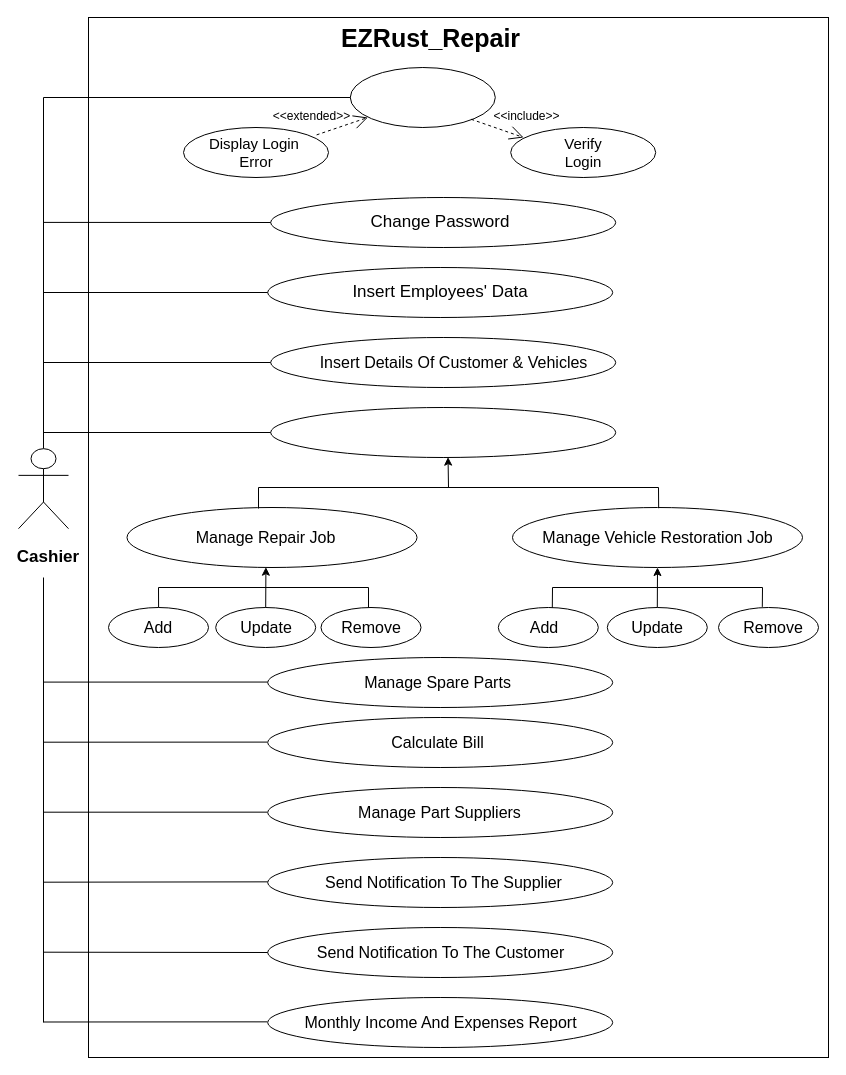
This 846x1075 diagram has some shape labels left out. Each missing label, with the centre of its shape:
"Actor" belongs at point 43,488.
"Job Specialization" belongs at point 443,432.
"Login" belongs at point 422,97.
